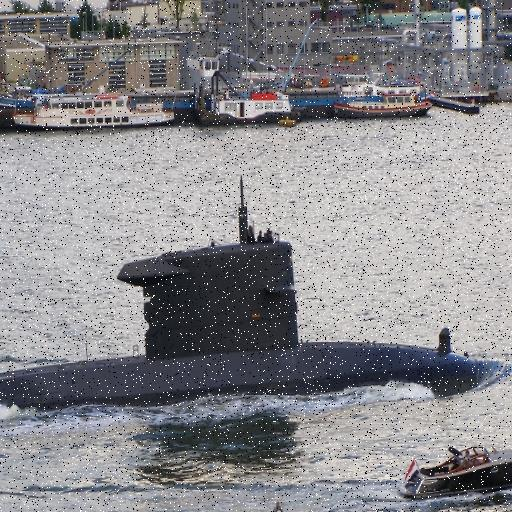submarine: (1, 232, 512, 420)
